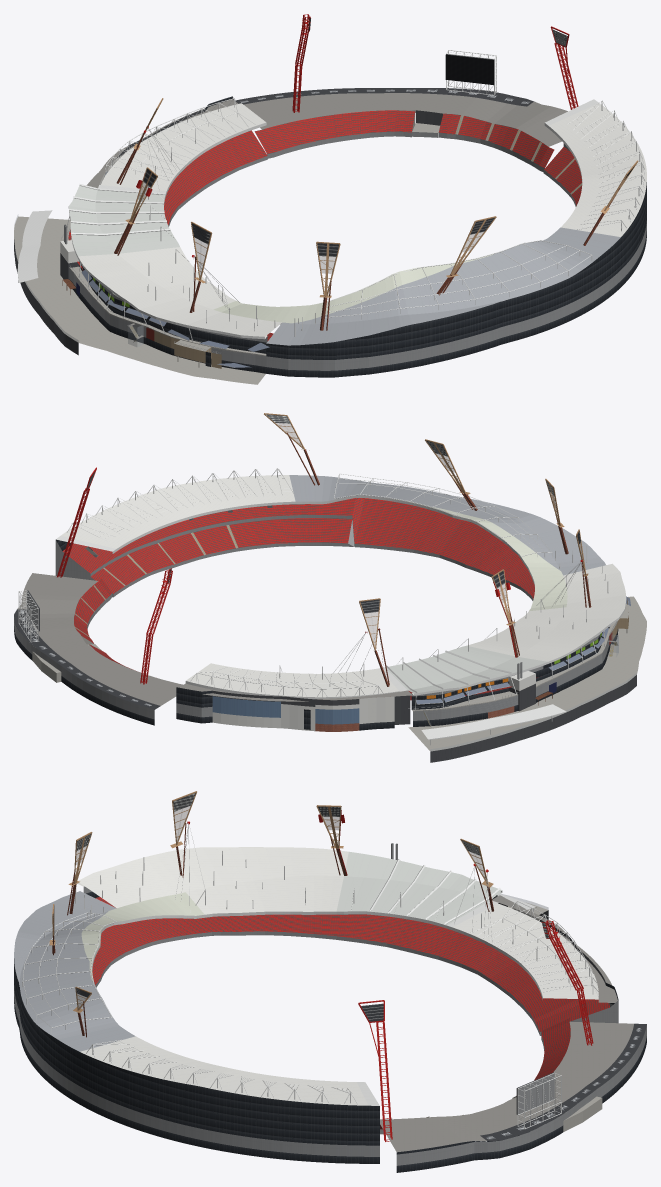
File: engie_v45.glb
3 views of the same model, one above another, from view 1: azimuth 30°, elevation 25°; view 2: azimuth 150°, elevation 25°; view 3: azimuth 270°, elevation 25° (orthographic). The views are drawn at different scales.
Parts seen in each view (by area): view 1: engie; view 2: engie; view 3: engie.
Boxes of the visible parts, x1,y1,x2,y2 form: engie: (14, 14, 646, 384); engie: (14, 413, 646, 762); engie: (14, 791, 646, 1172).
Bounding box in the file's own units: 261 × 61.9 × 227.
36 materials, 36 textured.
